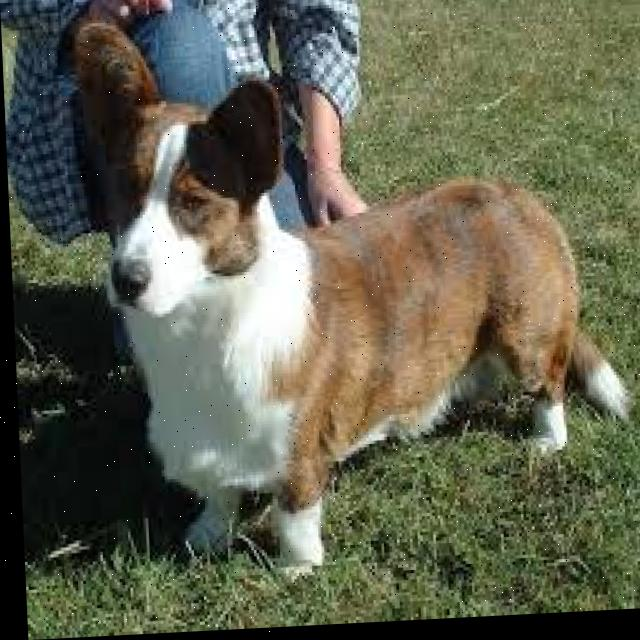CORGI: (47, 20, 626, 602)
